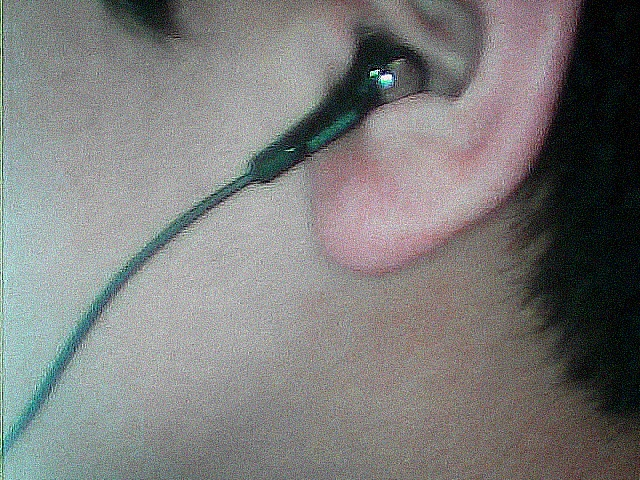earphone: (310, 1, 583, 275)
